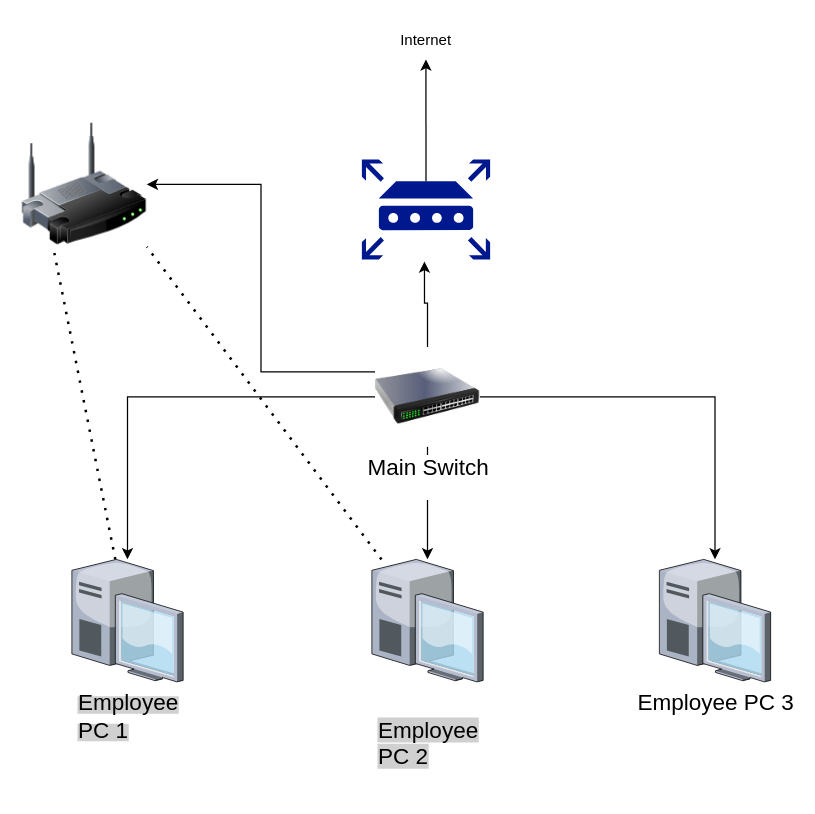
Image size: 815x814. Some labels were removed from this diagram. The shapes that lost their labels are listed below. From the top down, each one's centre as x and y in pixels, then its label:
the point at 83,183: Office Wap
the point at 425,209: Office Router
